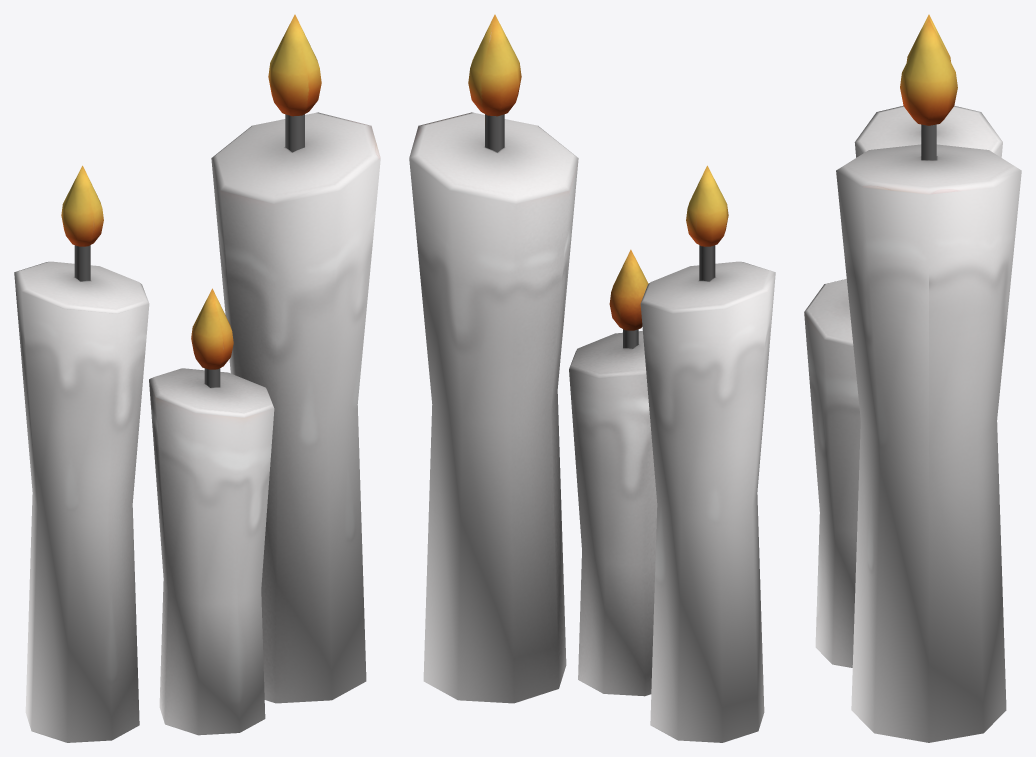
File: Halloween_Candle.fbx
3 views of the same model, side by side, from view 1: azimuth 30°, elevation 25°; view 2: azimuth 150°, elevation 25°; view 3: azimuth 270°, elevation 25° (orthographic). The views are drawn at different scales.
Visible parts, largest first — view 1: Halloween_Candle; view 2: Halloween_Candle; view 3: Halloween_Candle.
Boxes of the visible parts, x1,y1,x2,y2 form: Halloween_Candle: (14,14,380,742); Halloween_Candle: (409,14,775,742); Halloween_Candle: (804,14,1021,742).
Size of the model in its own units: 24.89 by 44.8 by 12.78.
